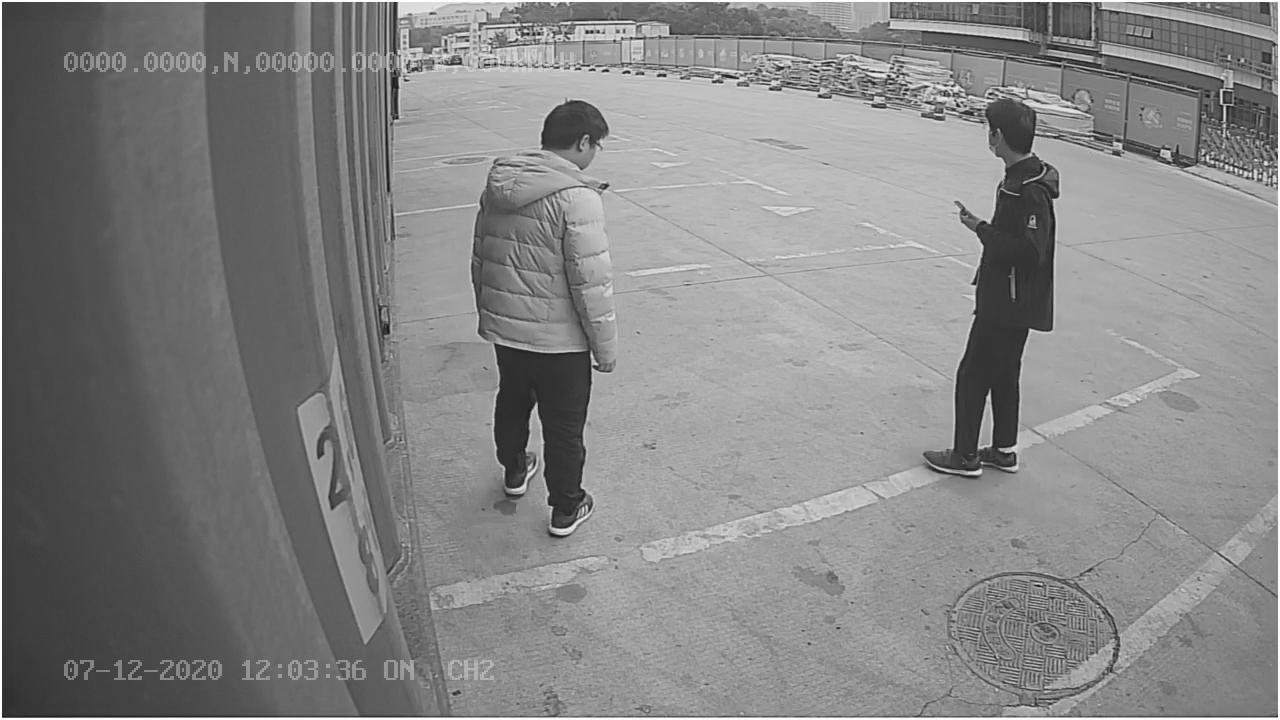person: (461, 100, 629, 534), (919, 86, 1068, 488)
